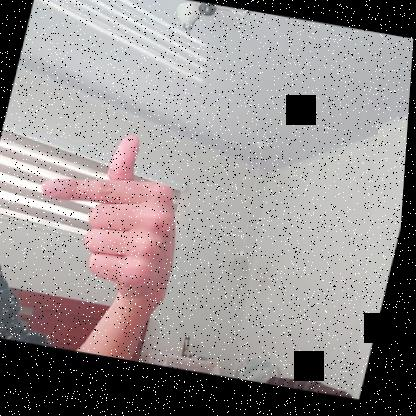T: (20, 122, 208, 306)
